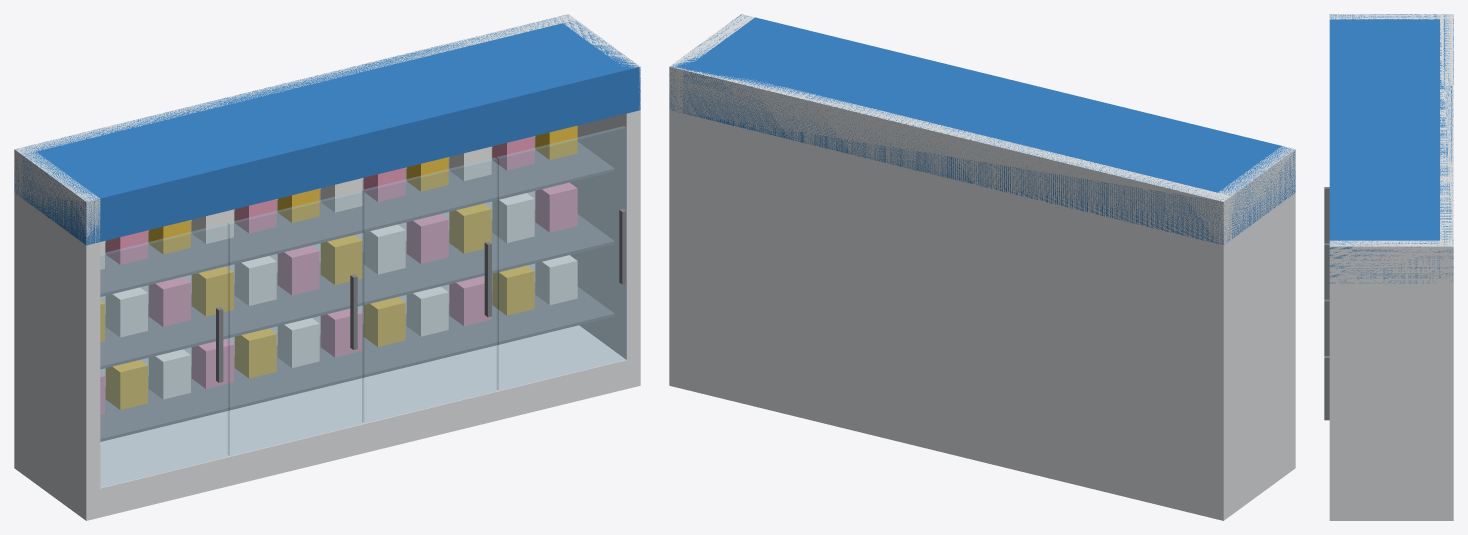
The model's file is dairy_fridge.glb.
The picture shows the model from 3 angles, left to right: view 1: azimuth 30°, elevation 25°; view 2: azimuth 150°, elevation 25°; view 3: azimuth 270°, elevation 25°; orthographic projection. The views are drawn at different scales.
Parts seen in each view (by area): view 1: door_fridge_glass, top_fridge_sign, shelf_fridge_handle, bottom_fridge_white, side_fridge_white, item_milk, item_cheese, item_yogurt, back_fridge_white, handle_fridge_handle; view 2: back_fridge_white, top_fridge_sign, side_fridge_white, bottom_fridge_white; view 3: side_fridge_white, top_fridge_sign, back_fridge_white, bottom_fridge_white, handle_fridge_handle.
Boxes of the visible parts, x1,y1,x2,y2 form: door_fridge_glass: [100, 126, 625, 487]; top_fridge_sign: [14, 15, 640, 245]; shelf_fridge_handle: [100, 137, 614, 441]; bottom_fridge_white: [14, 325, 638, 520]; side_fridge_white: [14, 14, 640, 520]; item_milk: [100, 146, 577, 399]; item_cheese: [100, 125, 577, 409]; item_yogurt: [100, 136, 577, 414]; back_fridge_white: [14, 14, 576, 472]; handle_fridge_handle: [216, 208, 626, 382]; back_fridge_white: [669, 65, 1231, 520]; top_fridge_sign: [669, 14, 1295, 244]; side_fridge_white: [669, 14, 1295, 520]; bottom_fridge_white: [685, 373, 1295, 520]; side_fridge_white: [1329, 14, 1453, 520]; top_fridge_sign: [1329, 14, 1453, 283]; back_fridge_white: [1440, 14, 1453, 520]; bottom_fridge_white: [1329, 496, 1453, 520]; handle_fridge_handle: [1324, 187, 1329, 420].
Size of the model in its own units: 4 by 2.2 by 0.94.
